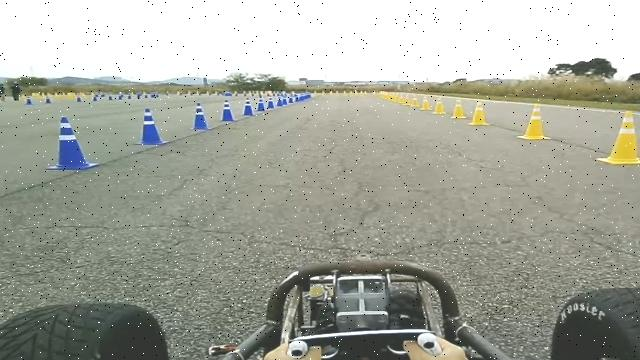blue cone: (44, 115, 99, 170), (134, 108, 168, 145), (188, 102, 211, 130), (219, 99, 236, 121), (242, 98, 254, 116), (256, 96, 265, 111), (268, 96, 276, 110), (276, 96, 283, 106), (289, 96, 295, 104), (284, 96, 288, 106)
yellow cone: (595, 109, 640, 164), (516, 103, 550, 140), (468, 101, 489, 125), (450, 99, 467, 118), (432, 96, 446, 114), (419, 96, 431, 110), (401, 93, 411, 105), (410, 96, 420, 107)
